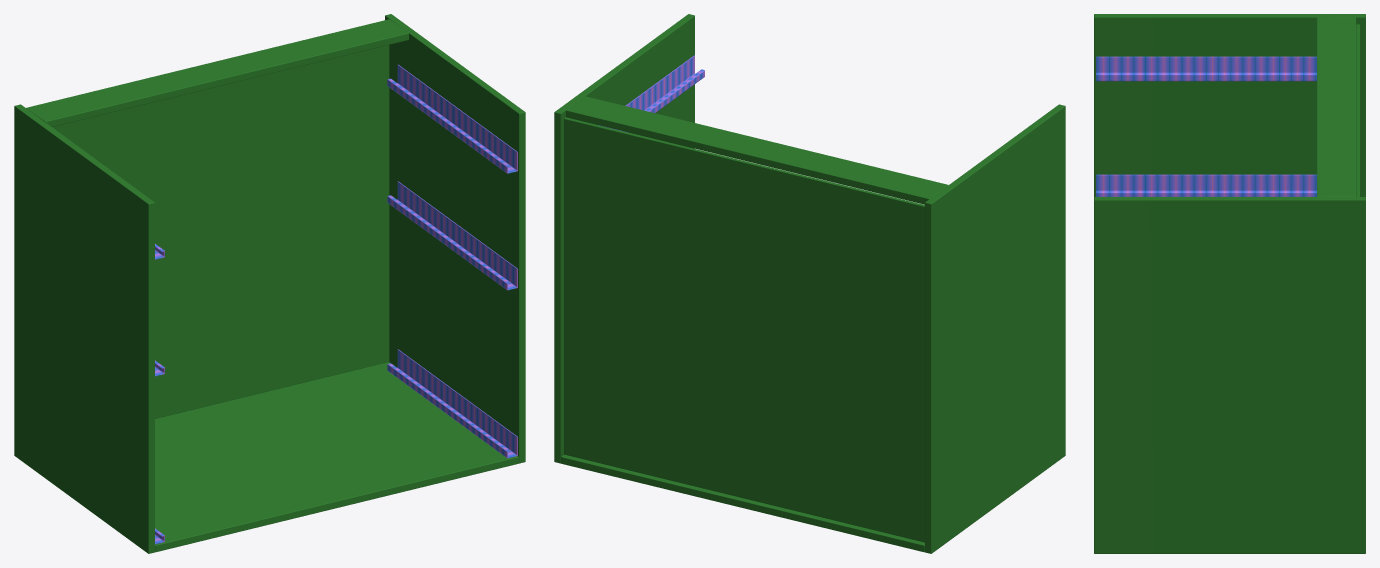
Rendered from SM_Kitchen_11_Base.fbx.
The picture shows the model from 3 angles, left to right: view 1: azimuth 30°, elevation 25°; view 2: azimuth 150°, elevation 25°; view 3: azimuth 270°, elevation 25°; orthographic projection.
Parts seen in each view (by area): view 1: SM_Kitchen_11_Base; view 2: SM_Kitchen_11_Base; view 3: SM_Kitchen_11_Base.
Part boxes in pixels (box(x1,y1,x2,y2)): SM_Kitchen_11_Base: box(14, 14, 525, 553); SM_Kitchen_11_Base: box(554, 14, 1065, 553); SM_Kitchen_11_Base: box(1094, 14, 1365, 553).
Bounding box in the file's own units: 89.99 × 79.8 × 55.49.
Materials: 2 (1 with a texture image).
